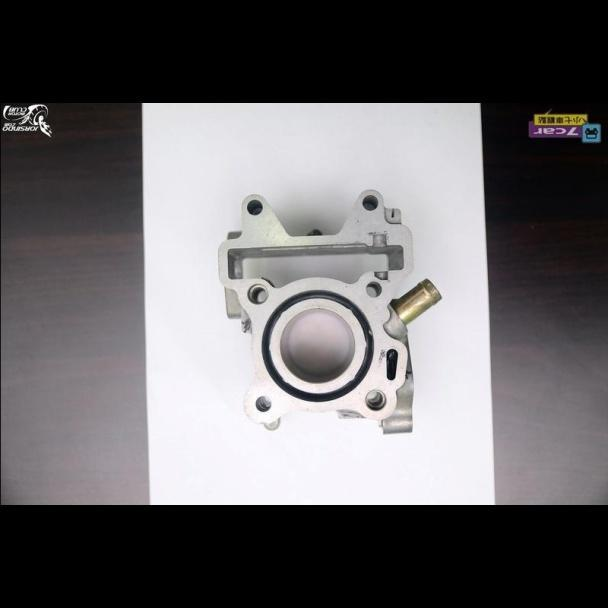hole: (362, 388, 387, 413), (243, 283, 269, 305), (243, 197, 263, 216), (252, 394, 272, 412), (364, 279, 382, 298), (359, 193, 377, 210)
